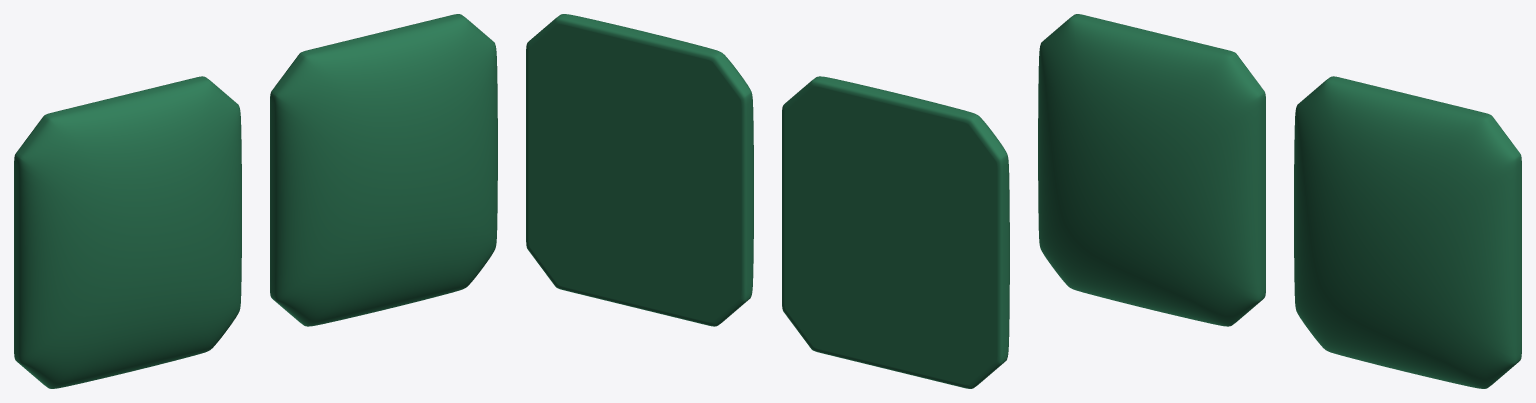
The model's file is matched-pair-v1.glb.
The picture shows the model from 3 angles, left to right: view 1: azimuth 30°, elevation 25°; view 2: azimuth 150°, elevation 25°; view 3: azimuth 330°, elevation 25°; orthographic projection.
Visible parts, largest first — view 1: Emerald-Octagon Cabochon 20x17x4mm, Emerald-Octagon Cabochon 20x17x4mm.001; view 2: Emerald-Octagon Cabochon 20x17x4mm.001, Emerald-Octagon Cabochon 20x17x4mm; view 3: Emerald-Octagon Cabochon 20x17x4mm.001, Emerald-Octagon Cabochon 20x17x4mm.
Part boxes in pixels (x1=…): Emerald-Octagon Cabochon 20x17x4mm: x1=14, y1=76, x2=241, y2=388; Emerald-Octagon Cabochon 20x17x4mm.001: x1=270, y1=14, x2=497, y2=326; Emerald-Octagon Cabochon 20x17x4mm.001: x1=526, y1=14, x2=753, y2=326; Emerald-Octagon Cabochon 20x17x4mm: x1=782, y1=76, x2=1009, y2=388; Emerald-Octagon Cabochon 20x17x4mm.001: x1=1294, y1=76, x2=1521, y2=388; Emerald-Octagon Cabochon 20x17x4mm: x1=1038, y1=14, x2=1265, y2=326.
Bounding box in the file's own units: 0.0367 × 0.02 × 0.00398.
